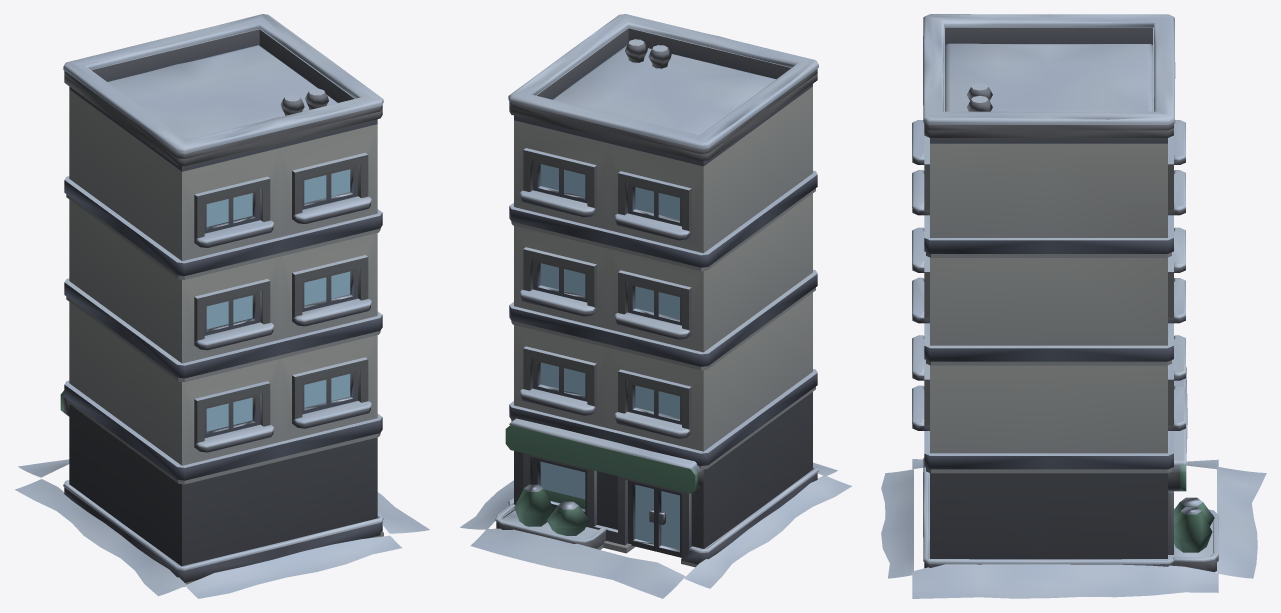
The model's file is bldg_f.glb.
The picture shows the model from 3 angles, left to right: view 1: azimuth 30°, elevation 25°; view 2: azimuth 150°, elevation 25°; view 3: azimuth 270°, elevation 25°; orthographic projection. The views are drawn at different scales.
Parts seen in each view (by area): view 1: Base, Roof; view 2: Base, Roof; view 3: Base, Roof.
Part boxes in pixels (bbox=[...]): Base: bbox=[15, 35, 429, 598]; Roof: bbox=[63, 14, 383, 158]; Base: bbox=[460, 33, 852, 598]; Roof: bbox=[508, 14, 818, 153]; Base: bbox=[881, 33, 1266, 598]; Roof: bbox=[923, 14, 1175, 130].
Size of what is drawn, in the model's own units: 10.59 by 16.33 by 12.32.
